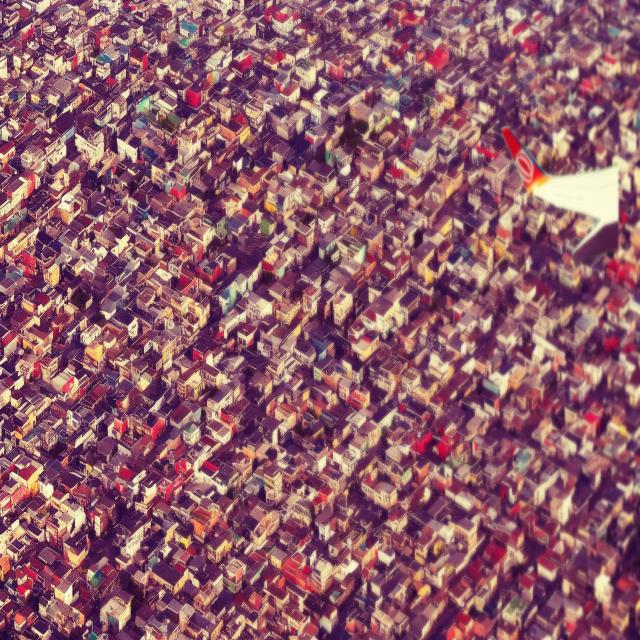airplane: (501, 125, 620, 265)
